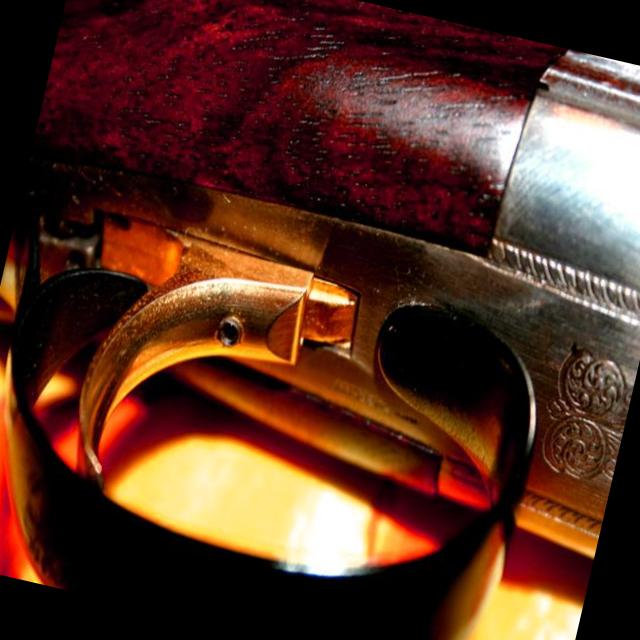Gun: (6, 0, 640, 640)
